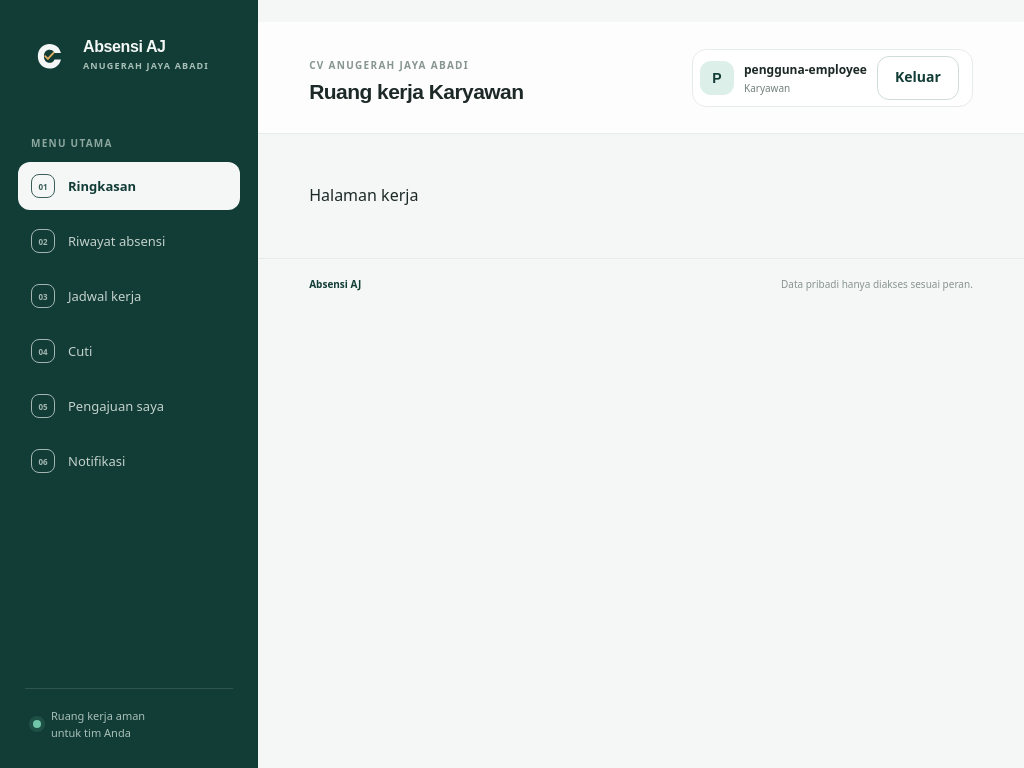
Test: AppShell logout › keeps the user signed in and reports a network error when logout is not confirmed
The width and height of the screenshot is (1024, 768).
Click the button "Keluar": (918, 78) [877, 56, 959, 100]
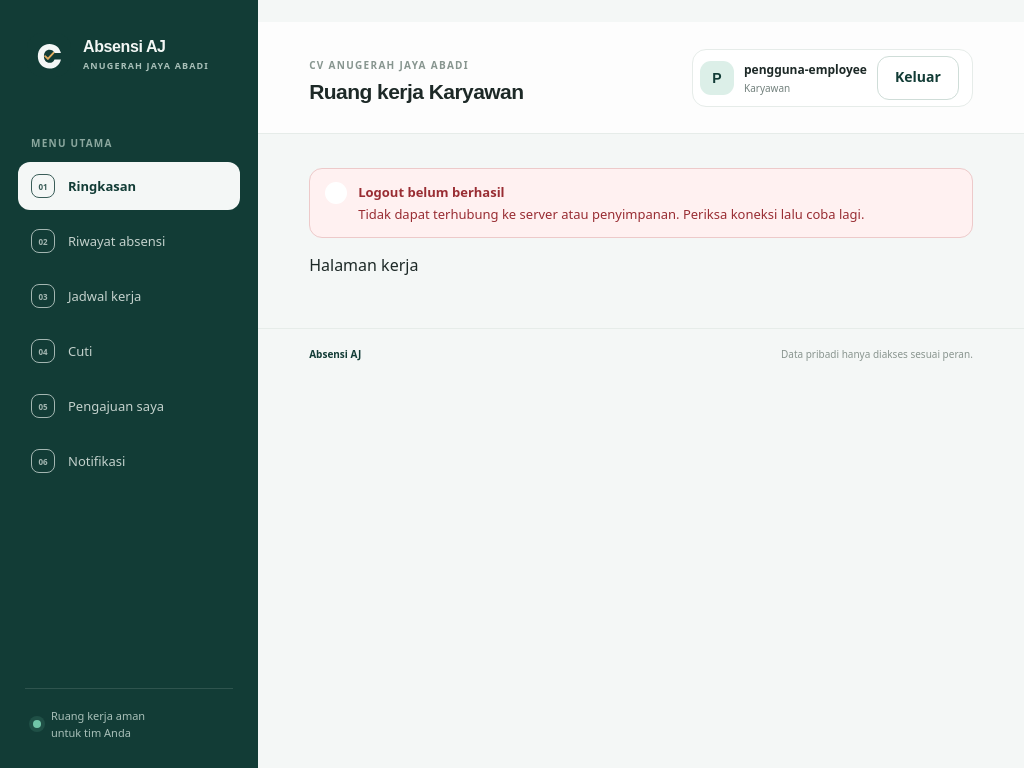
Result: the text "Logout belum berhasil" is shown at [358, 183, 505, 201]
Result: the text "Tidak dapat terhubung ke server atau penyimpanan. Periksa koneksi lalu coba lagi." is shown at [358, 205, 864, 223]
Result: the message is shown at [309, 168, 973, 238]
